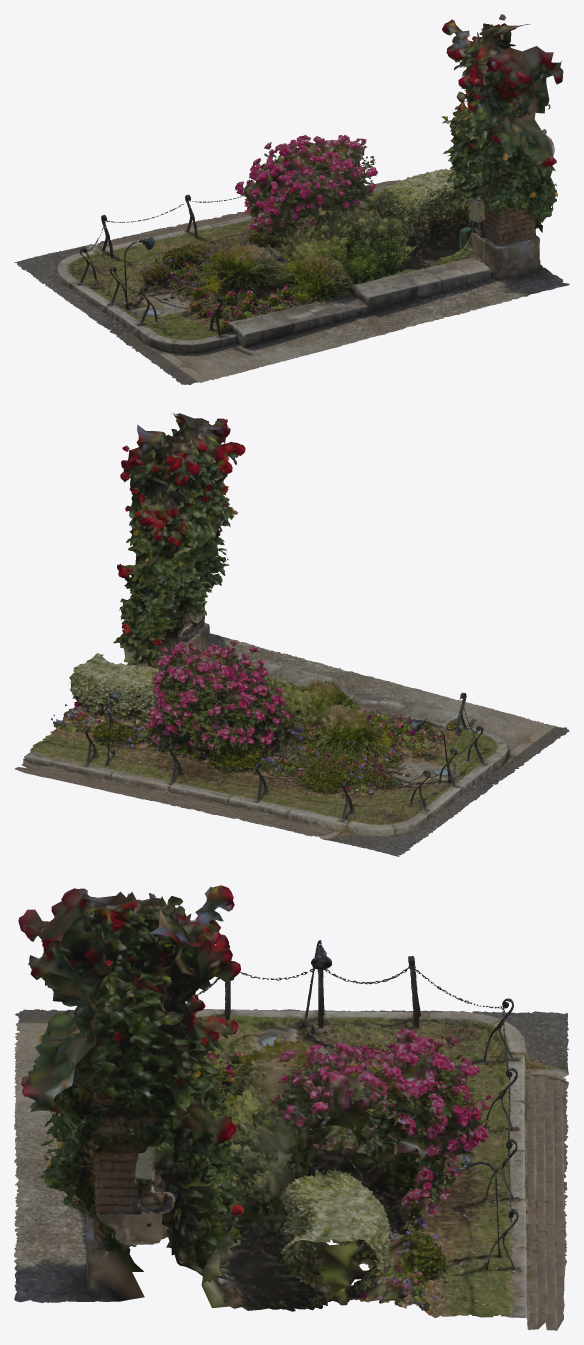
File: rose.glb
3 views of the same model, one above another, from view 1: azimuth 30°, elevation 25°; view 2: azimuth 150°, elevation 25°; view 3: azimuth 270°, elevation 25° (orthographic). The views are drawn at different scales.
Visible parts, largest first — view 1: RoseGarden; view 2: RoseGarden; view 3: RoseGarden.
Boxes of the visible parts, left/top/right/bottom form: RoseGarden: left=14, top=14, right=569, bottom=384; RoseGarden: left=14, top=413, right=569, bottom=856; RoseGarden: left=14, top=885, right=569, bottom=1330.
Size of the model in its own units: 24.29 by 14.96 by 18.57.
